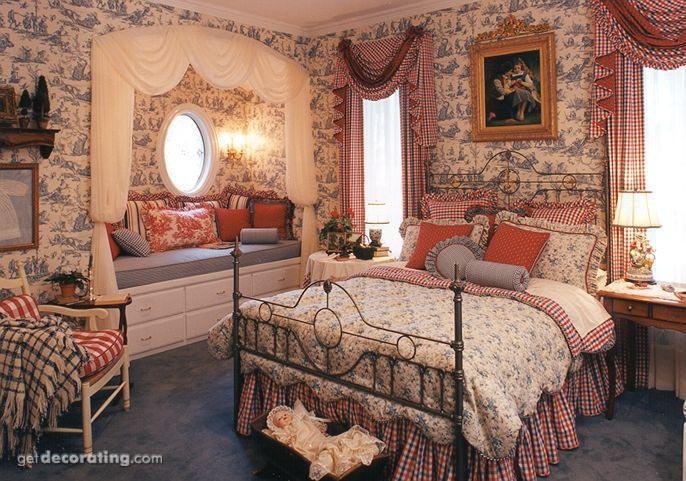Cama: (254, 210, 622, 468)
Ventana: (632, 49, 685, 270), (350, 83, 406, 249)
